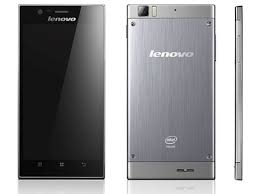lenovo: (17, 1, 109, 184), (125, 1, 217, 184)
